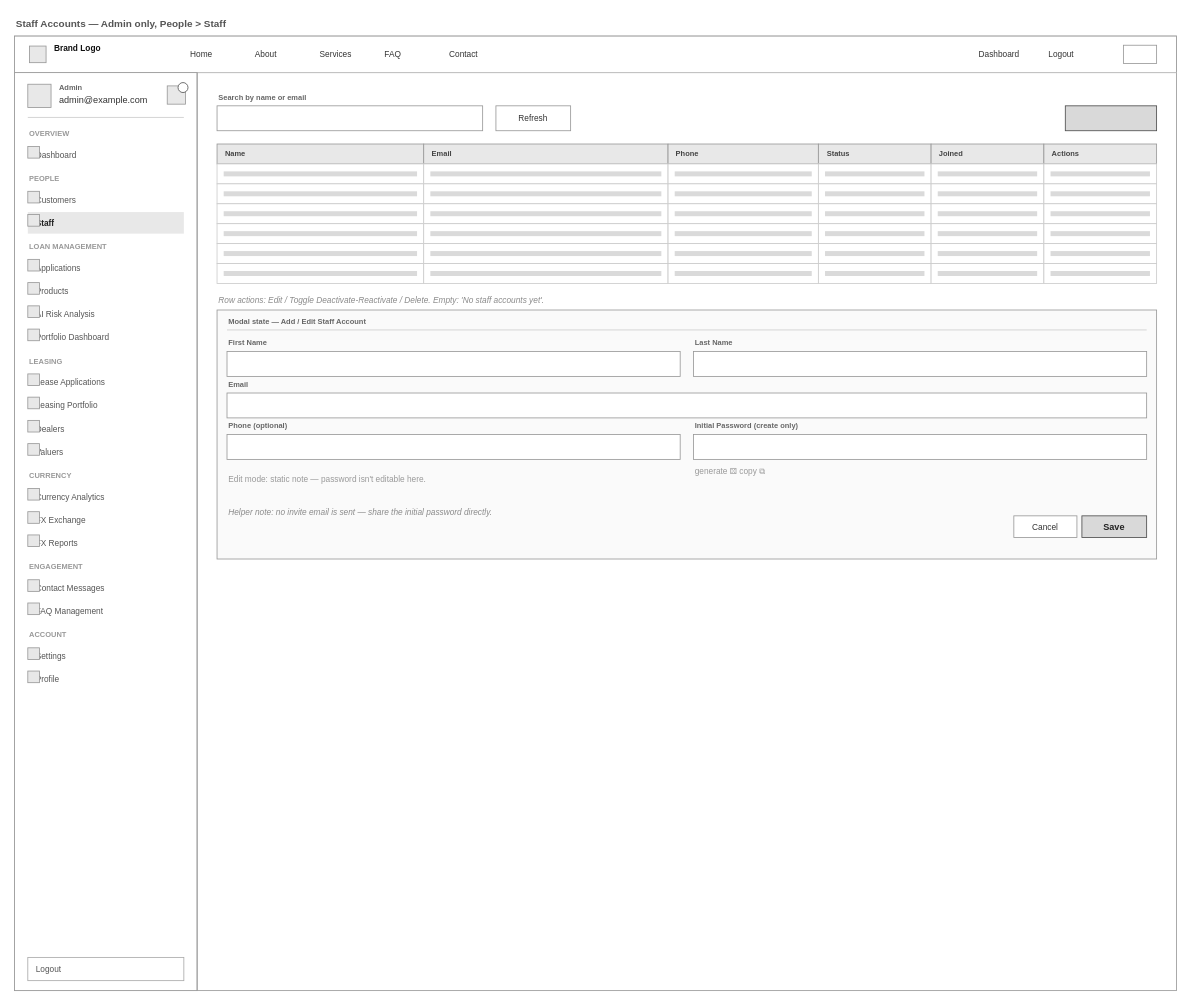
The diagram is 1192 pixels wide and 1006 high, and some of its shapes have lost their labels. The centre of each missing label's shape, as x and y in pixels:
Add Staff: [1110,118]
EN ▾: [1140,53]
